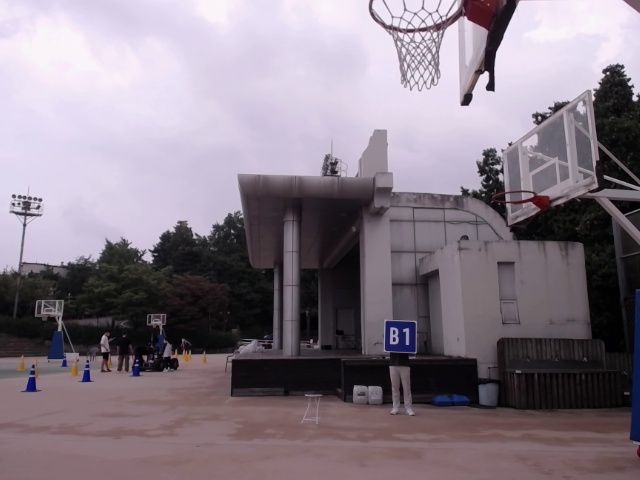delivery_b1: (384, 320, 417, 354)
